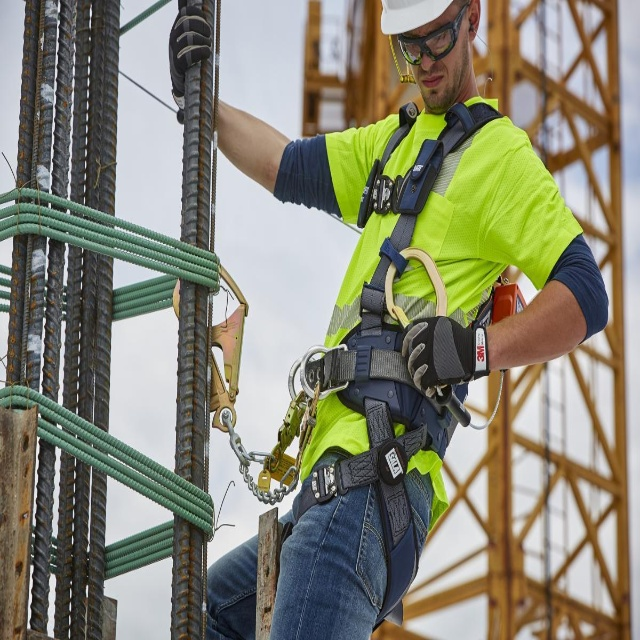Arnes_seguridad: (257, 102, 521, 615)
